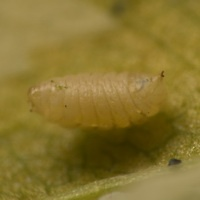insect: (28, 72, 166, 127)
